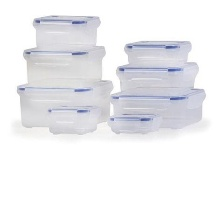plastic_box: (12, 74, 118, 133), (107, 82, 209, 133), (19, 40, 109, 91), (113, 57, 203, 100), (28, 11, 105, 55), (120, 34, 195, 71), (43, 100, 105, 137), (104, 109, 166, 137)
